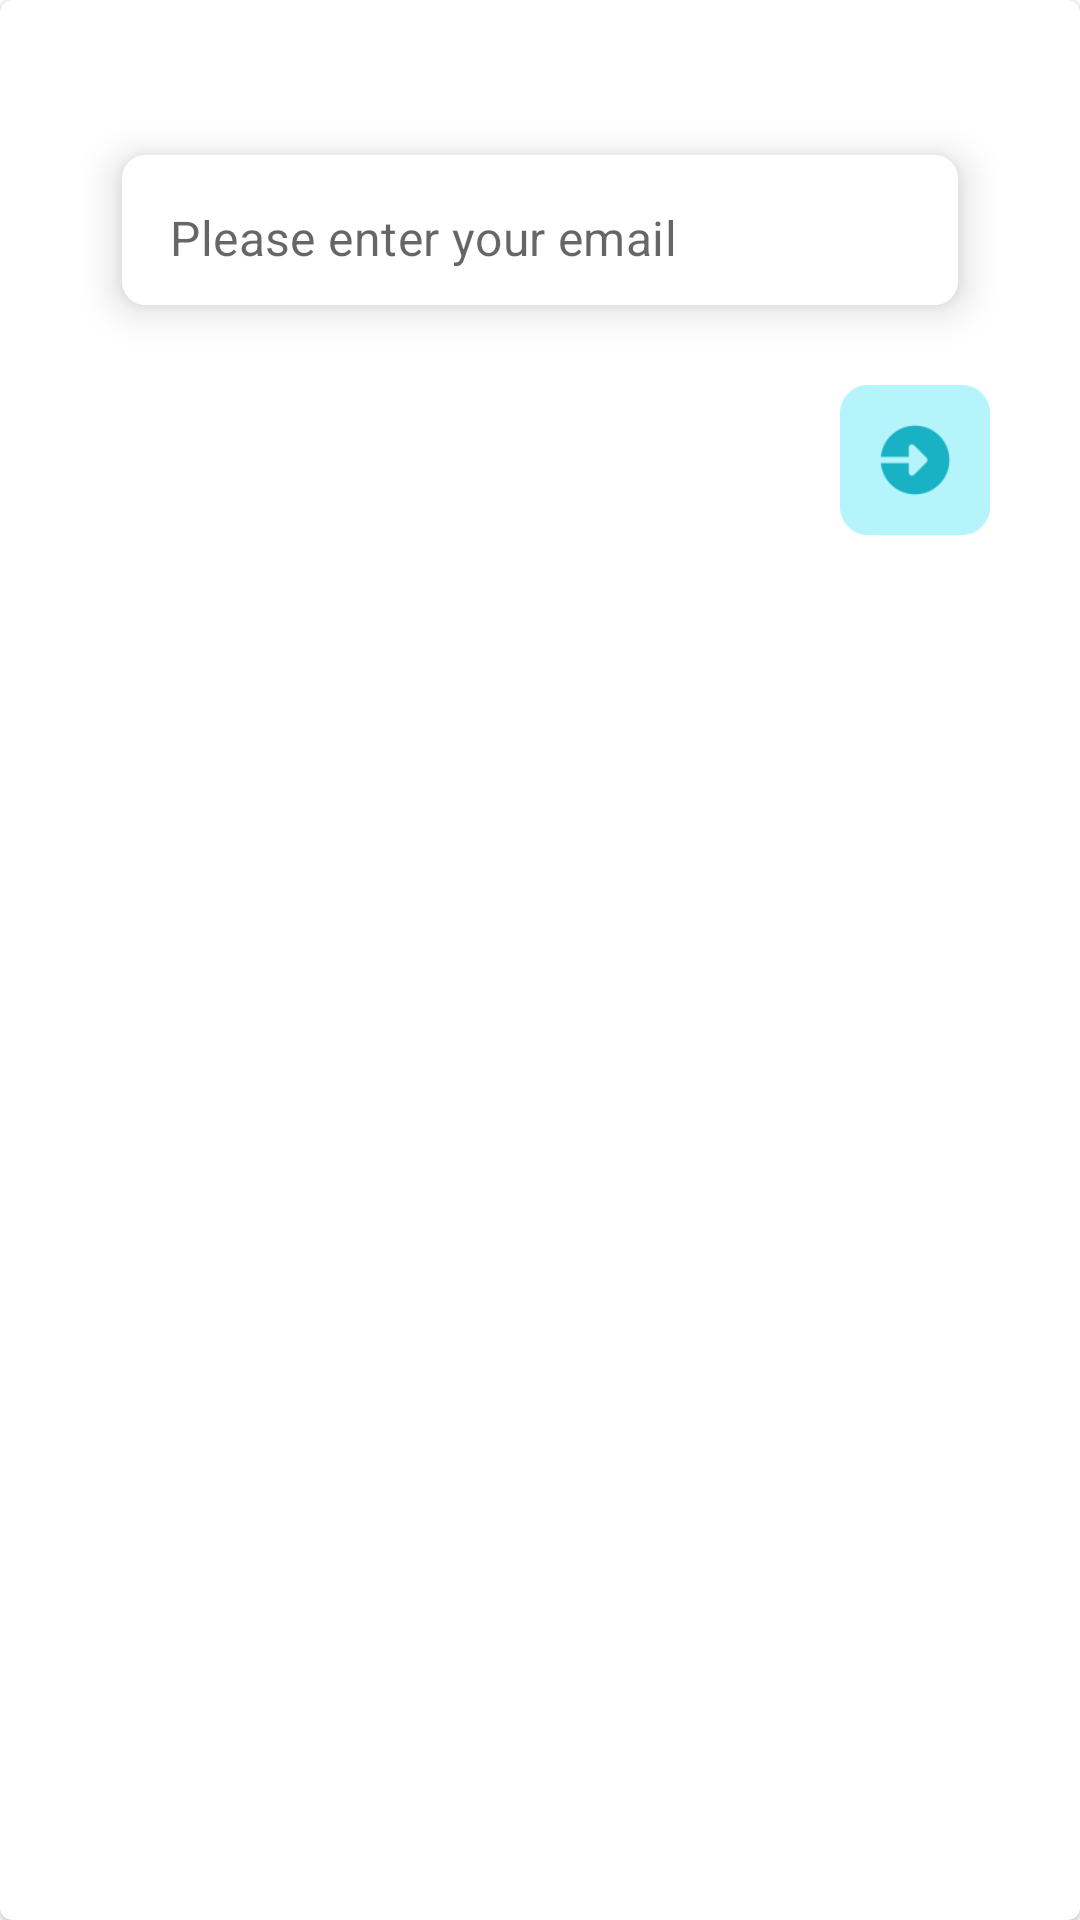

Screen size 1080w x 1920h. Icon name, then its box in pixels as (x1, y1, x2, y2):
ent: (840, 385, 990, 535)
